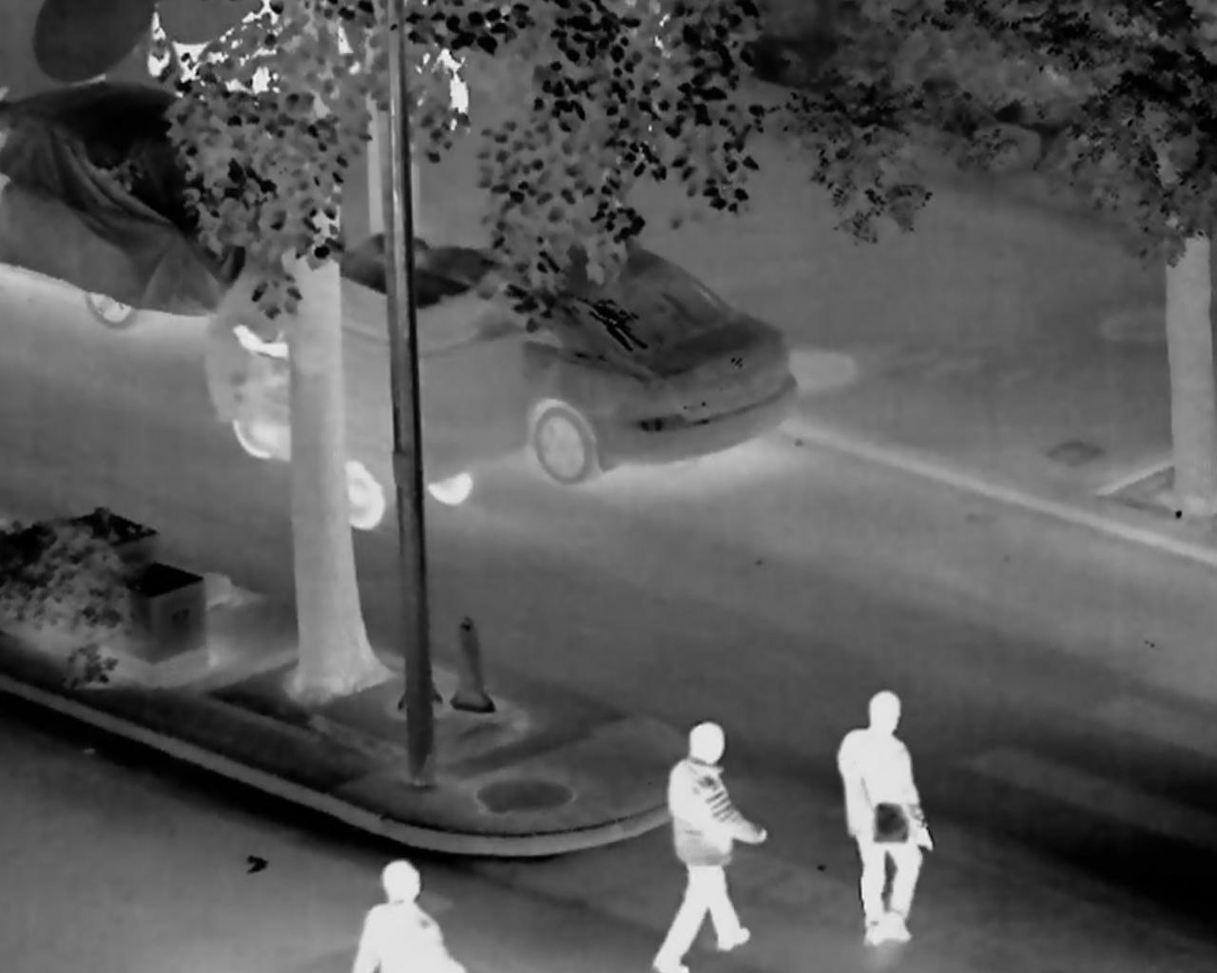person: (654, 722, 768, 972), (832, 687, 933, 950), (351, 858, 466, 973)
